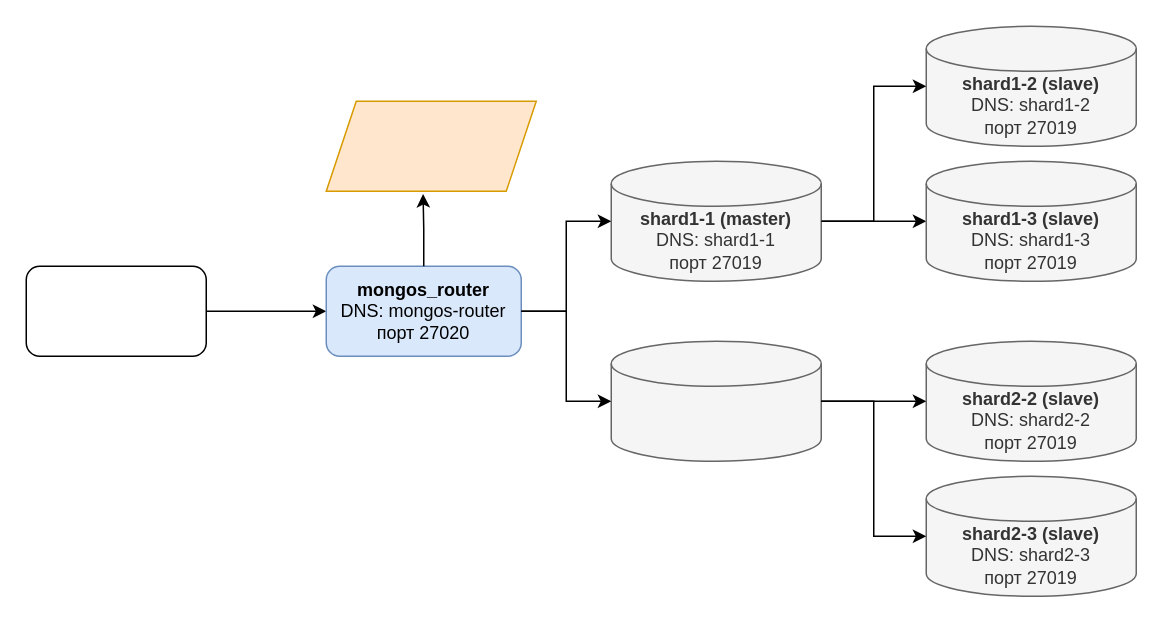
This 1163x623 diagram has some shape labels left out. Each missing label, with the centre of its shape:
"configSrv DNS: configSrv порт 27017" belongs at pixel 430 145.
"pymongo-api" belongs at pixel 115 310.
"shard2-1 (master) DNS: shard2-1 порт 27019" belongs at pixel 715 400.
